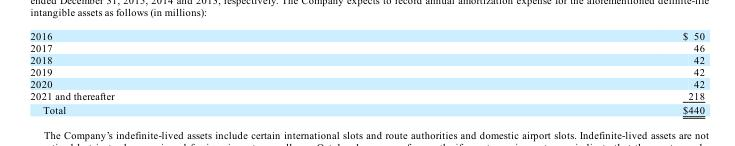table: (29, 29, 703, 115)
table column: (29, 29, 397, 115), (397, 29, 703, 115)
table row: (29, 89, 703, 102), (29, 102, 703, 115), (29, 29, 703, 41), (29, 41, 703, 53), (29, 53, 703, 65), (29, 65, 703, 77), (29, 77, 703, 89)
